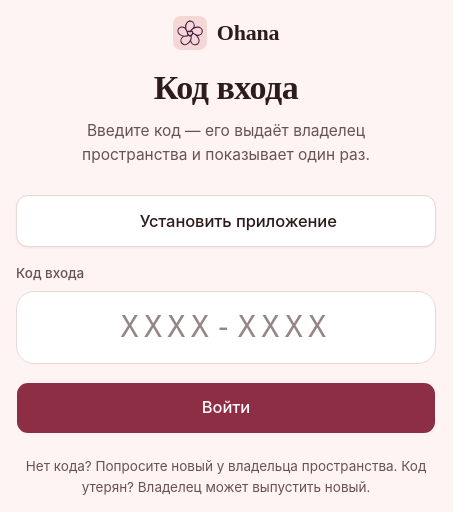
Test case: SignInScreen install gate › offers installation on Android when the browser can prompt, without blocking the code
Expected: the field labelled "Код входа" is shown, [16, 291, 436, 364]
Step 1. Click the button "Установить приложение" → [226, 221], box [16, 195, 436, 247]
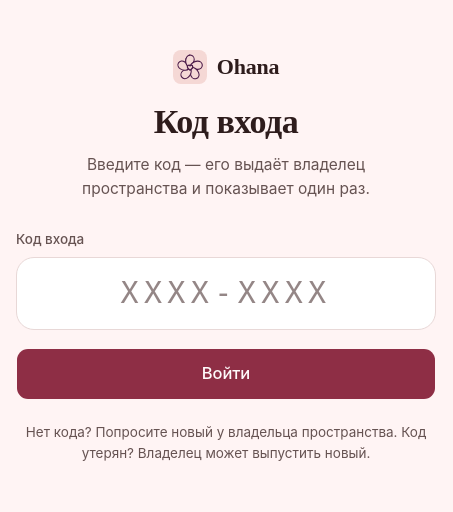
Now the button "Установить приложение" is gone
